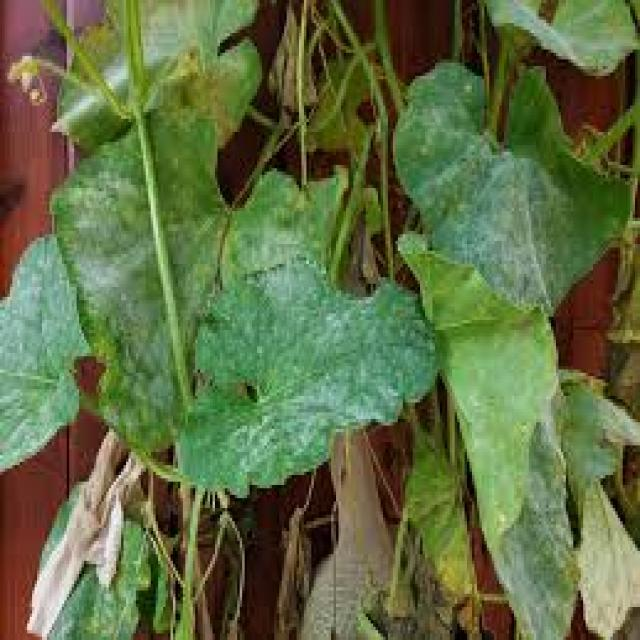powdery-mildew: (507, 423, 573, 640), (272, 352, 393, 457), (70, 229, 160, 340)
